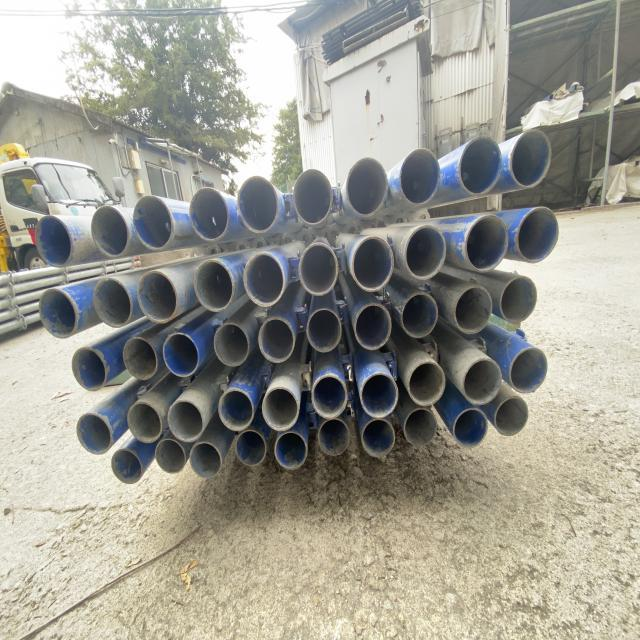pipe: (292, 160, 342, 224), (508, 126, 556, 190), (462, 209, 510, 271), (244, 243, 292, 304), (457, 134, 504, 196), (344, 154, 390, 216), (514, 201, 560, 263), (134, 265, 184, 319), (134, 190, 180, 248), (194, 253, 240, 311), (350, 228, 396, 286), (236, 172, 281, 230), (39, 282, 82, 342), (93, 270, 136, 328), (406, 216, 448, 275), (34, 210, 76, 268), (399, 146, 441, 204), (300, 233, 339, 293), (190, 181, 231, 238), (91, 202, 130, 256), (354, 298, 394, 349), (509, 345, 548, 397), (400, 290, 440, 338), (259, 313, 298, 361), (123, 334, 160, 384), (501, 274, 538, 324), (454, 284, 492, 332), (463, 356, 501, 404), (359, 369, 397, 416), (311, 374, 350, 419), (308, 301, 343, 351), (409, 358, 447, 404), (67, 345, 106, 389), (264, 381, 301, 426), (218, 387, 255, 432), (170, 396, 208, 439), (453, 406, 489, 450), (361, 412, 398, 454), (78, 409, 114, 452), (215, 322, 250, 366), (128, 398, 163, 442), (166, 328, 200, 373), (494, 394, 530, 436), (405, 406, 439, 448), (191, 437, 226, 477), (108, 448, 144, 486), (274, 427, 308, 467), (154, 436, 187, 476), (316, 418, 350, 456), (236, 425, 268, 465)
